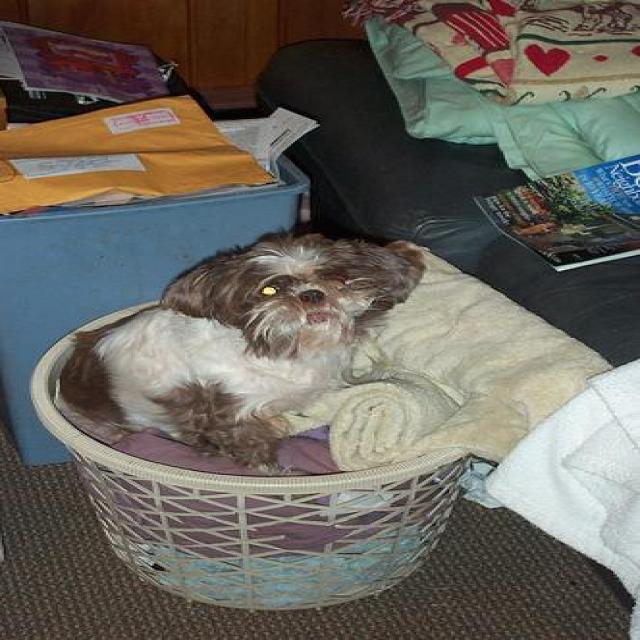shih_tzu: (63, 236, 436, 474)
